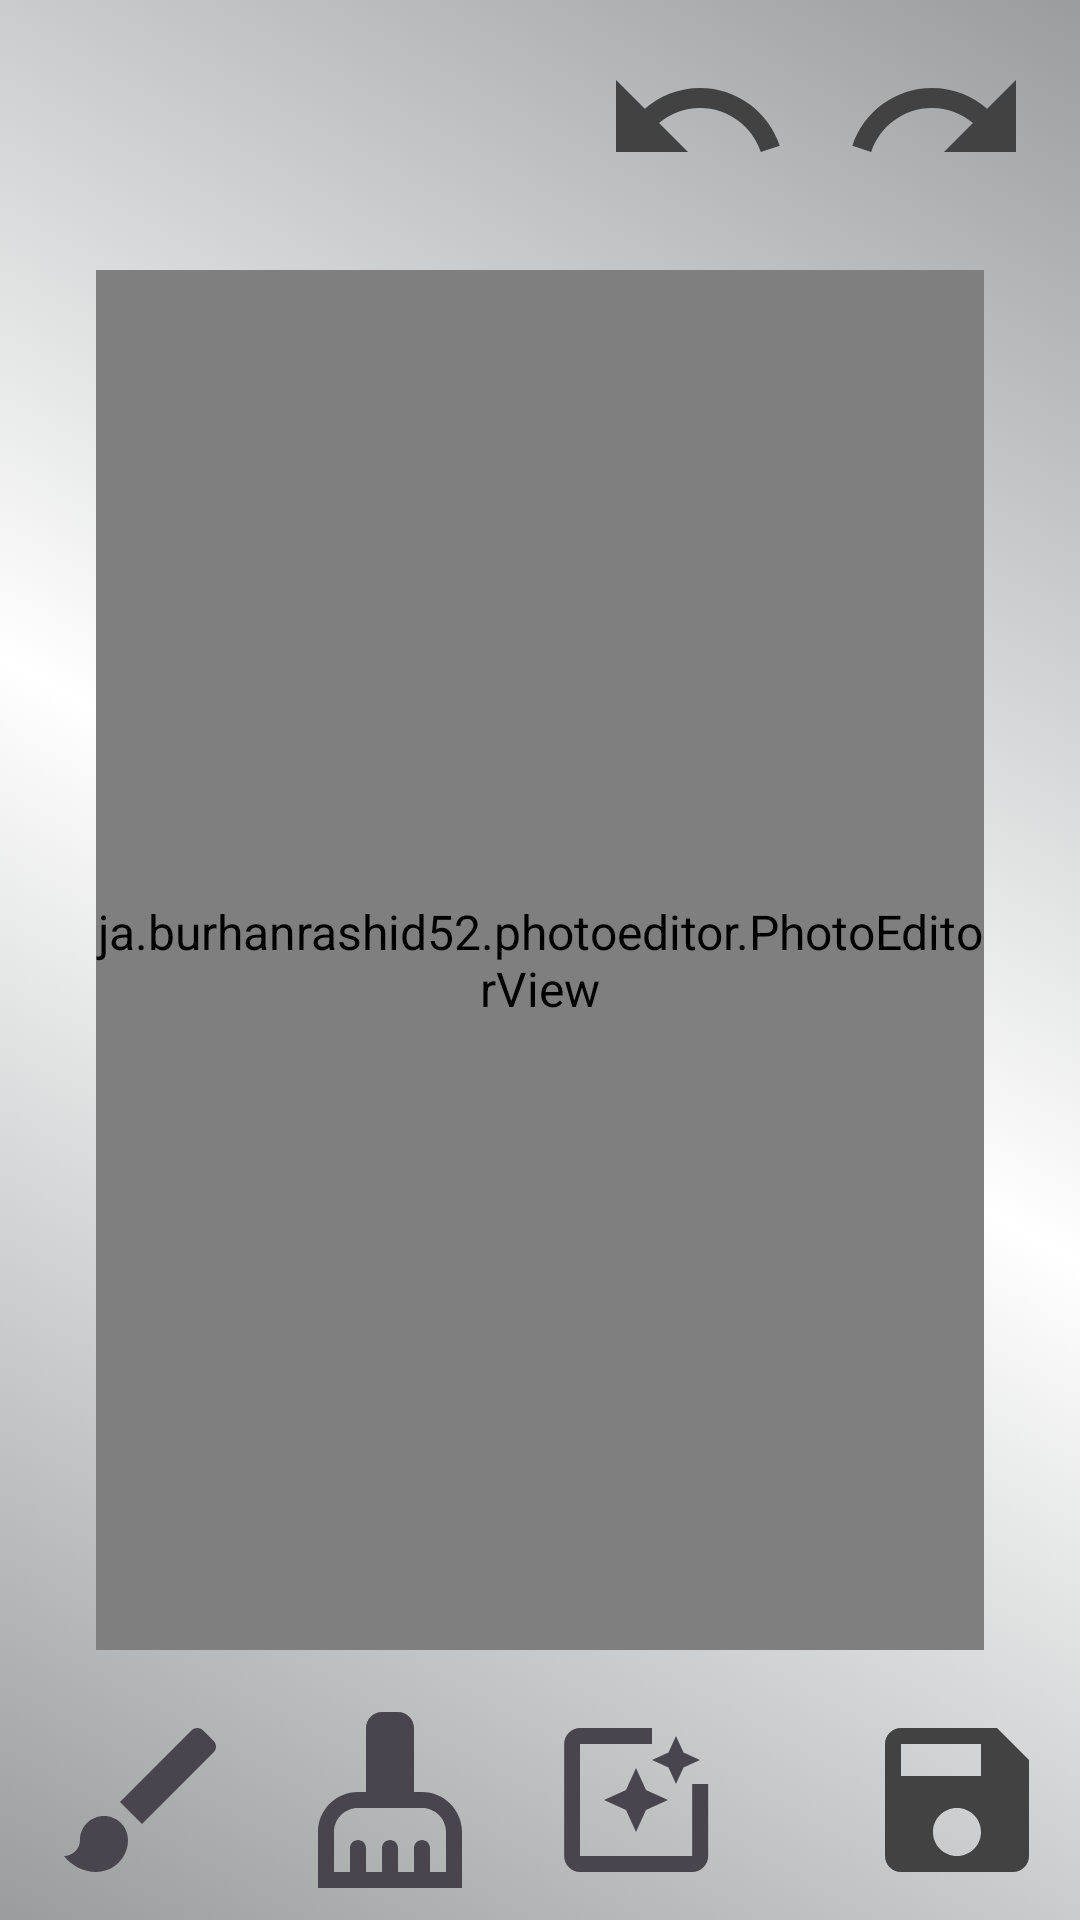

Point at icon controls on the screen. Image size 1080px×1920px, points as (x,y).
brush: (140,1800)
filter: (636,1800)
redo: (934,116)
save: (957,1800)
undo: (696,88)
